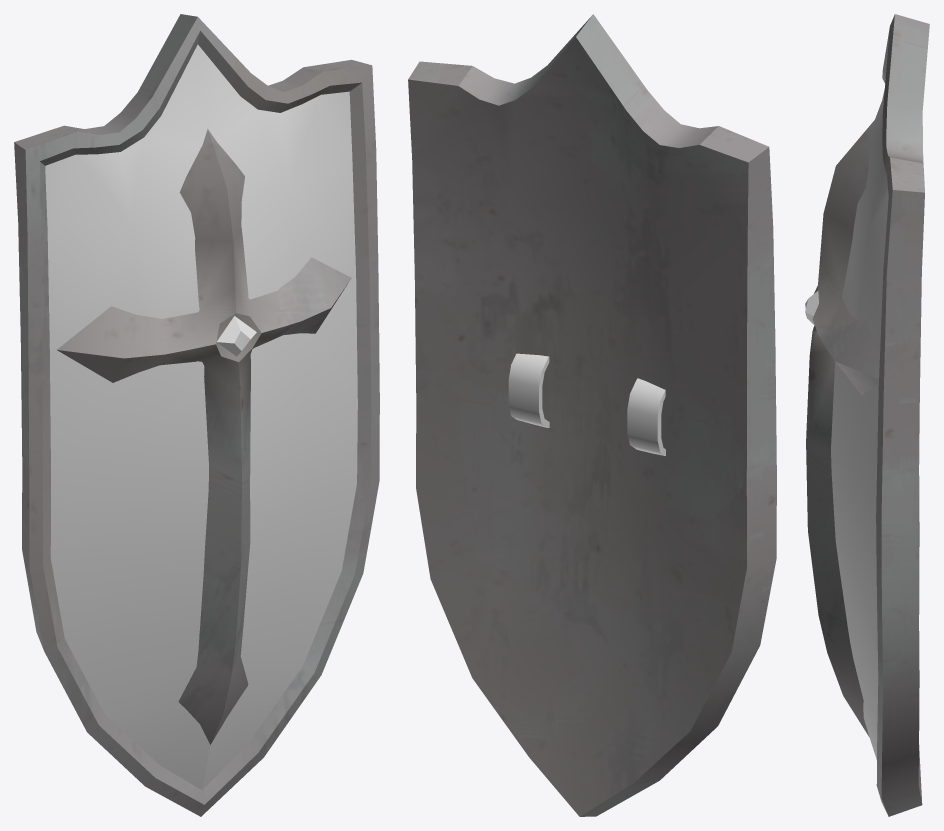
Rendered from SM_Blockout_Shield_2.fbx.
The picture shows the model from 3 angles, left to right: view 1: azimuth 30°, elevation 25°; view 2: azimuth 150°, elevation 25°; view 3: azimuth 270°, elevation 25°; orthographic projection.
Parts seen in each view (by area): view 1: Shield_2; view 2: Shield_2; view 3: Shield_2.
Boxes of the visible parts, bbox=[...] form: Shield_2: bbox=[14, 14, 379, 816]; Shield_2: bbox=[408, 14, 776, 816]; Shield_2: bbox=[805, 14, 929, 816].
Bounding box in the file's own units: 78.27 × 170 × 23.97.
